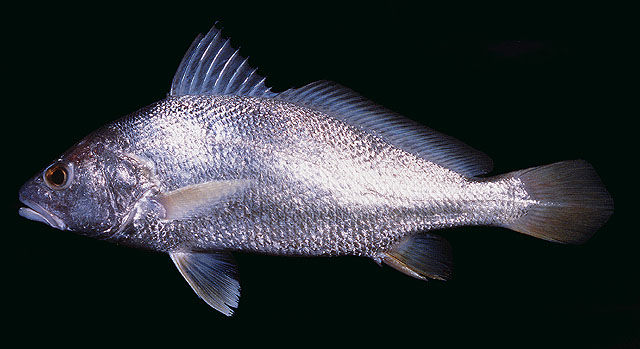fish: (18, 18, 615, 317)
